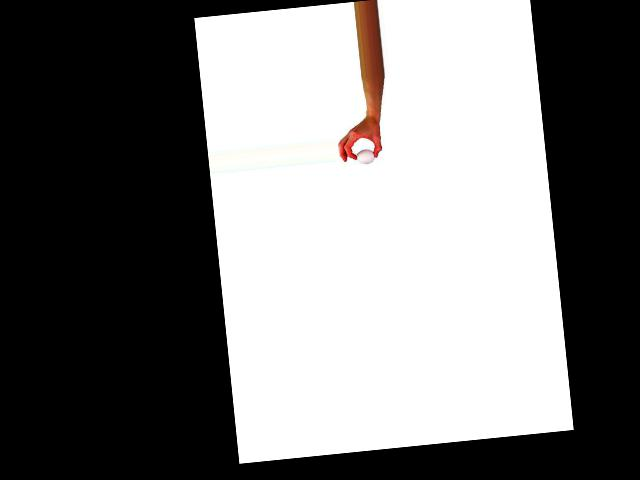egg: (355, 148, 375, 164)
